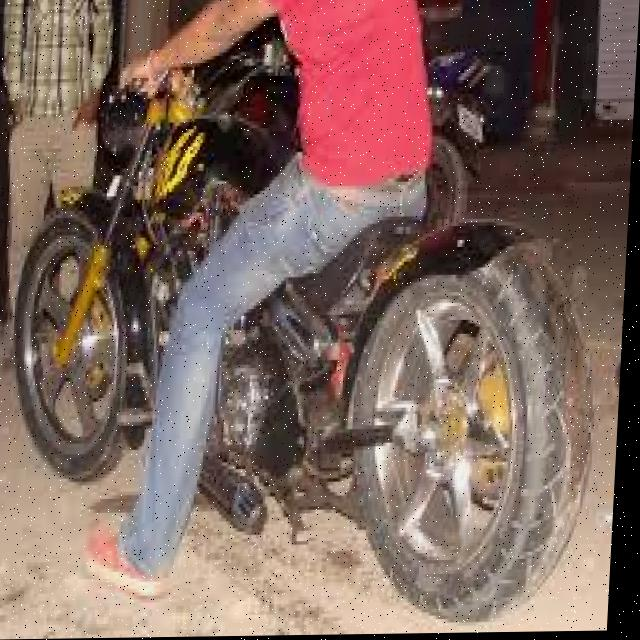bike: (28, 136, 594, 598)
